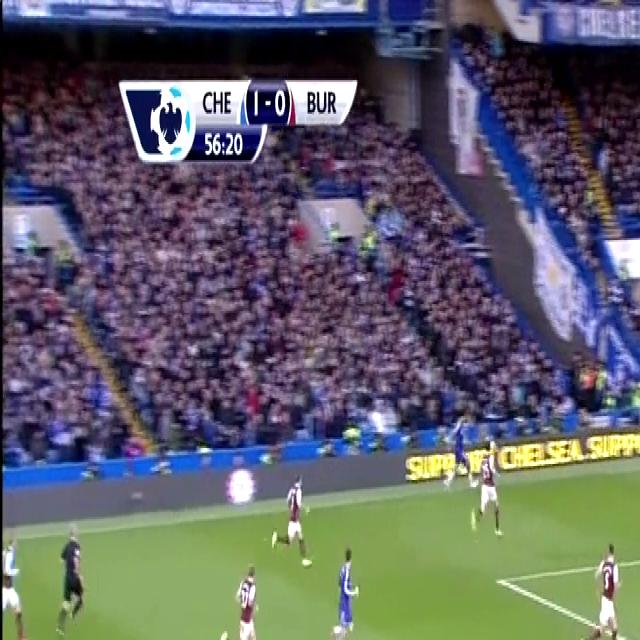referee: (47, 514, 87, 640)
soccer-player: (577, 530, 629, 640), (219, 551, 270, 640), (322, 535, 361, 640), (274, 464, 312, 570), (472, 445, 508, 546), (0, 517, 27, 640), (443, 408, 474, 495)
